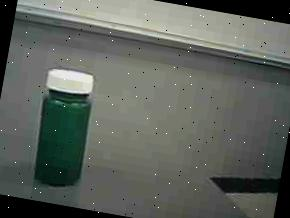Bottle C: (13, 55, 120, 200)
